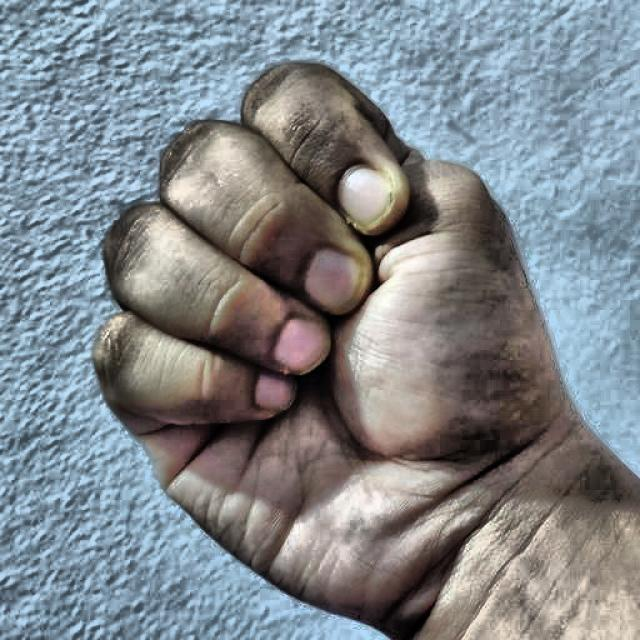To: (82, 44, 578, 622)
